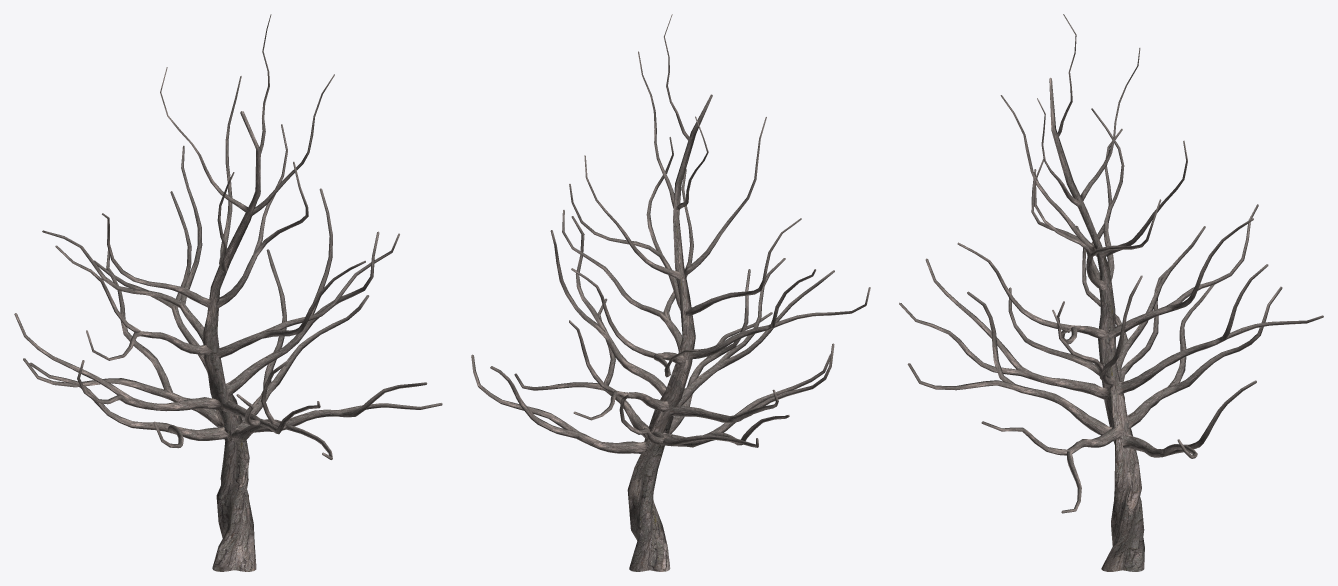
Rendered from tree9.obj.
The picture shows the model from 3 angles, left to right: view 1: azimuth 30°, elevation 25°; view 2: azimuth 150°, elevation 25°; view 3: azimuth 270°, elevation 25°; orthographic projection. The views are drawn at different scales.
Parts seen in each view (by area): view 1: tree; view 2: tree; view 3: tree.
Boxes of the visible parts, x1,y1,x2,y2 form: tree: [14, 14, 442, 571]; tree: [471, 14, 870, 571]; tree: [899, 14, 1323, 571].
Bounding box in the file's own units: 56.68 × 83.57 × 58.09.
1 material, 1 textured.
